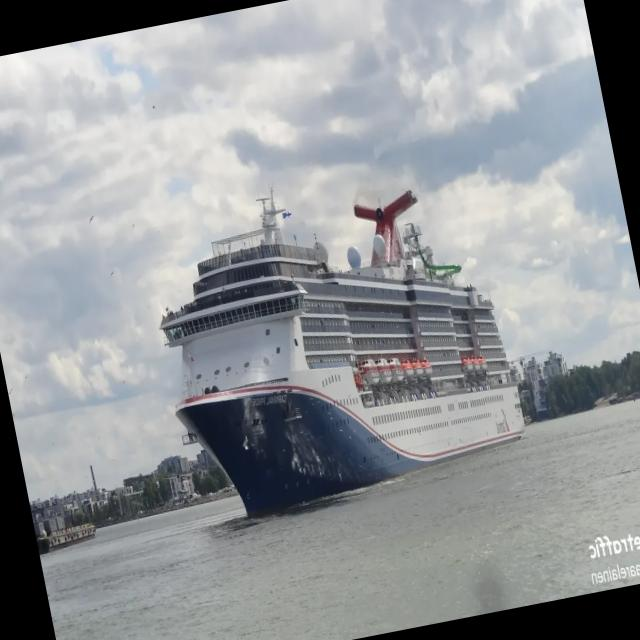Cruise: (160, 188, 524, 515)
